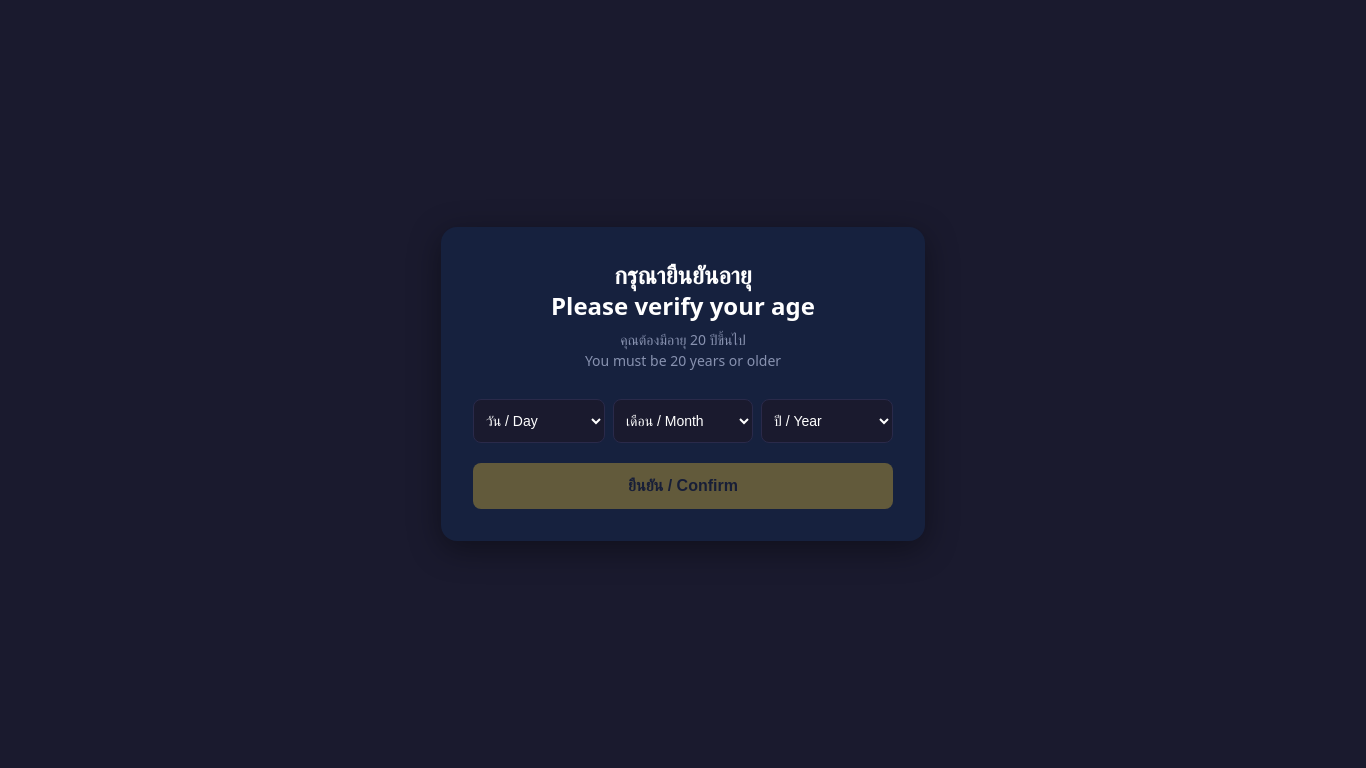
Scenario: AgeVerification › resets day if it exceeds max days after month change
Select day 31 in January (valid)
Select "1990" in the dropdown named "Year" at (827, 421), box [761, 399, 893, 443]
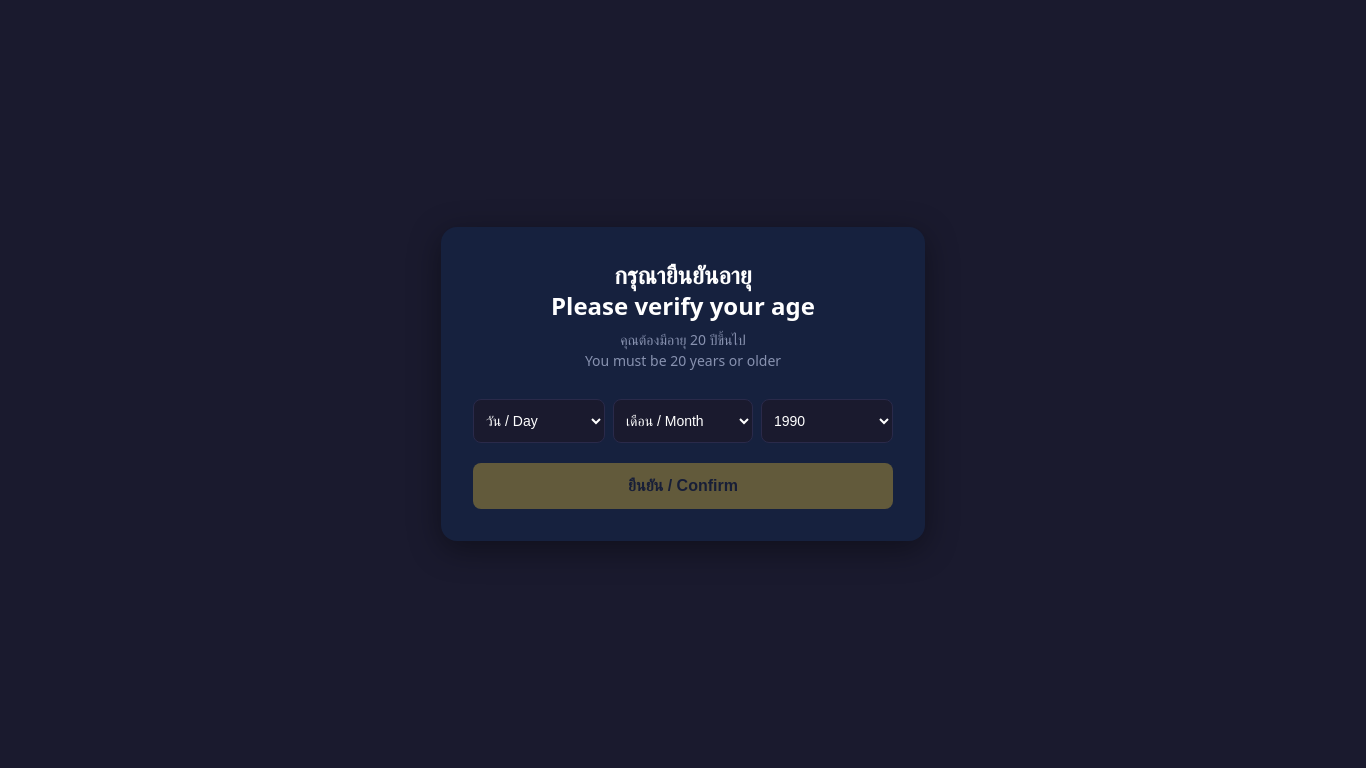
Select "มกราคม (January)" in the dropdown named "Month" at (683, 421), box [613, 399, 753, 443]
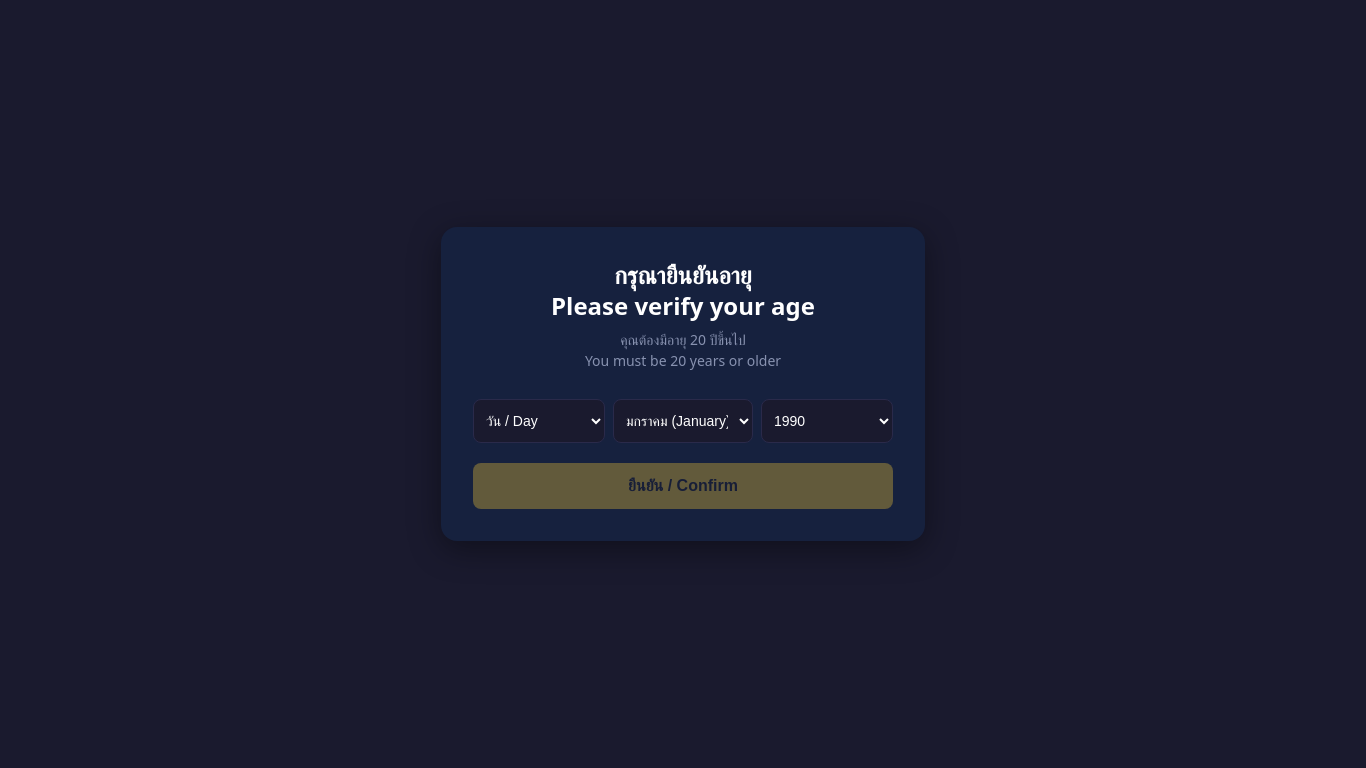
Select "31" in the dropdown named "Day" at (539, 421), box [473, 399, 605, 443]
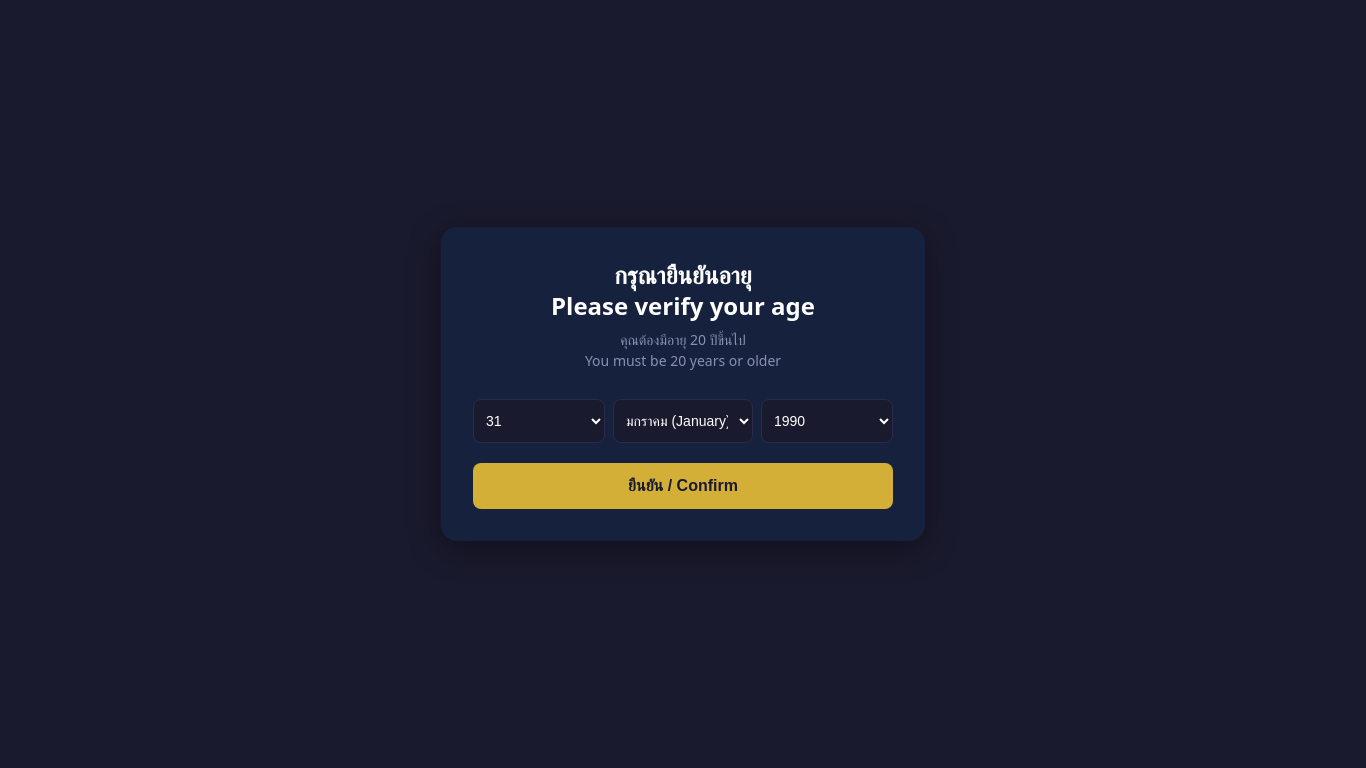
Now switch to February — day 31 is invalid, should be reset
Select "กุมภาพันธ์ (February)" in the dropdown named "Month" at (683, 421), box [613, 399, 753, 443]
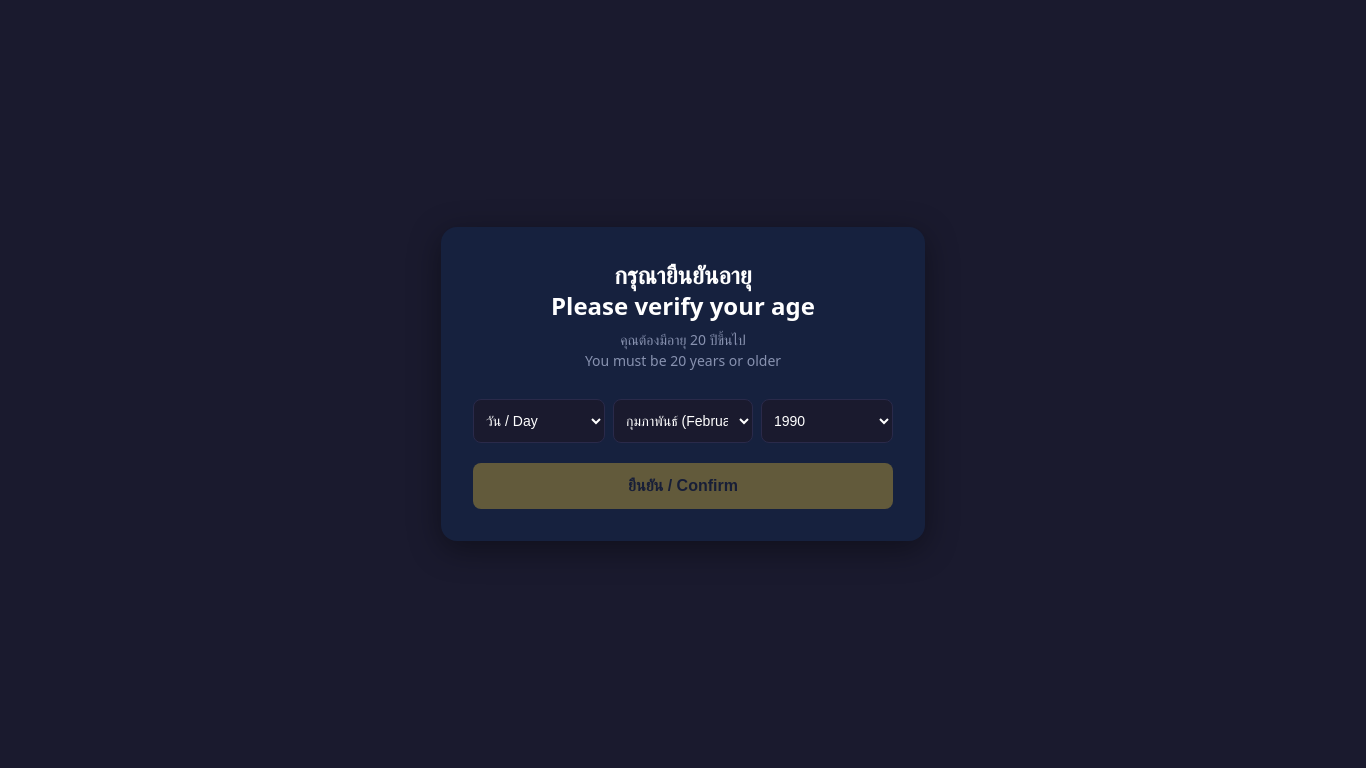
Check: the button "ยืนยัน / Confirm" is disabled, box [473, 463, 893, 509]
